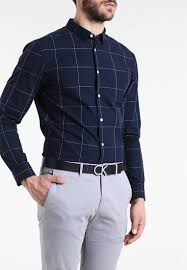F_belt: (36, 152, 133, 181)
F_shirt: (1, 29, 141, 197)
